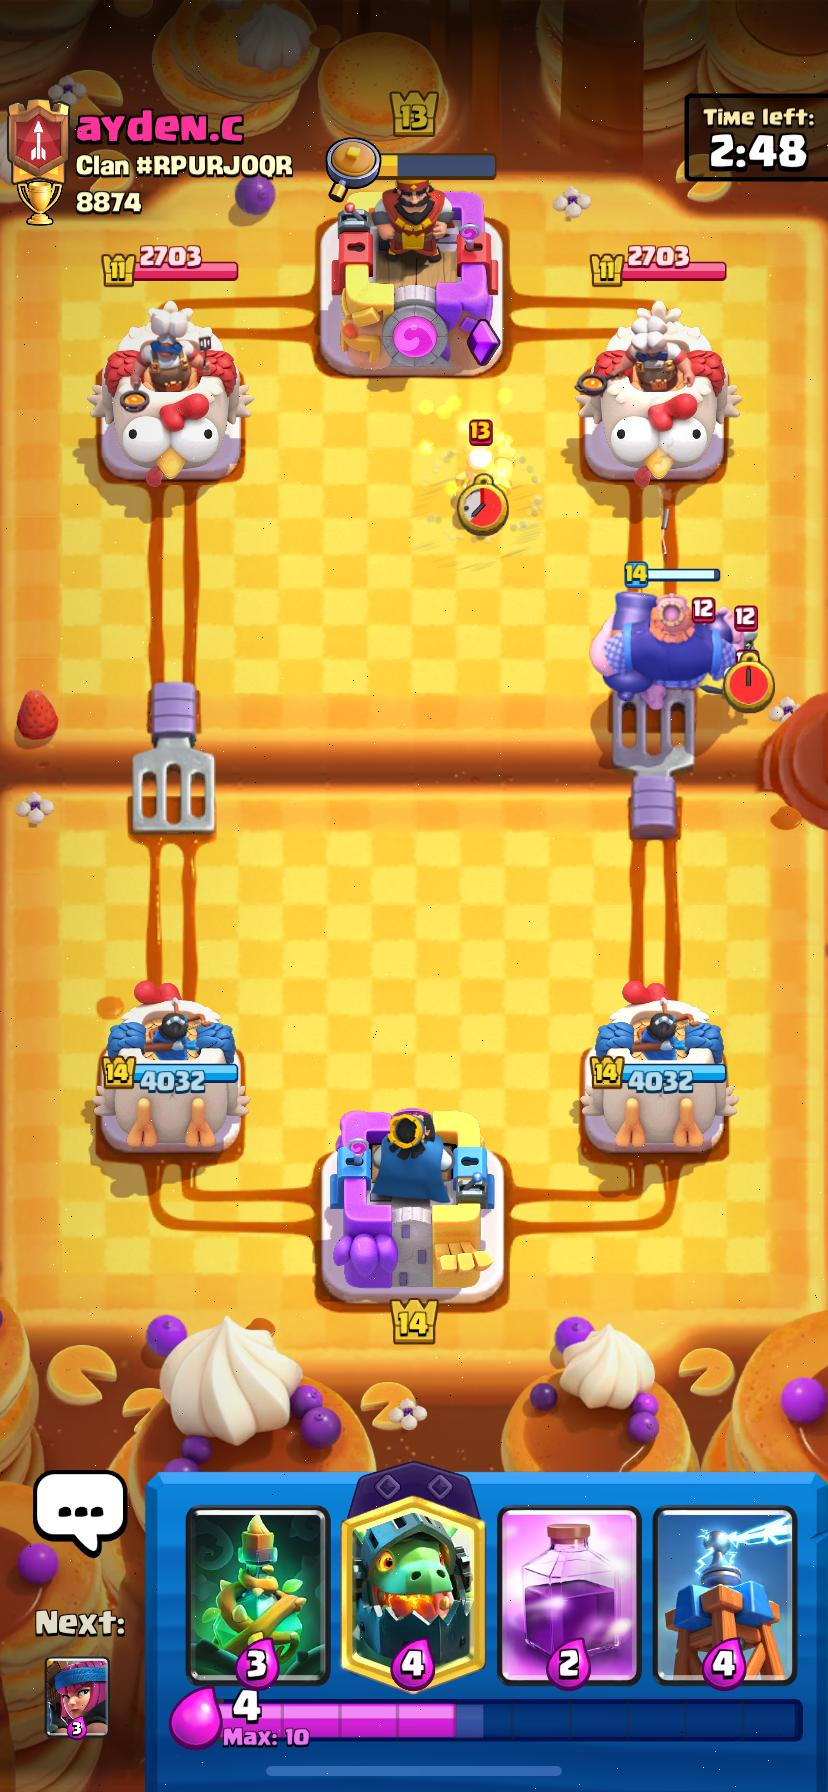EFirecrack: (453, 447, 517, 488)
EKingTower: (324, 175, 507, 378)
EnemyPanTower: (87, 305, 252, 485), (574, 297, 732, 483)
ORoyalG: (591, 591, 747, 715)
OwnKingTower: (319, 1105, 504, 1303)
OwnPrincessTower: (91, 979, 248, 1158), (573, 981, 726, 1158)
